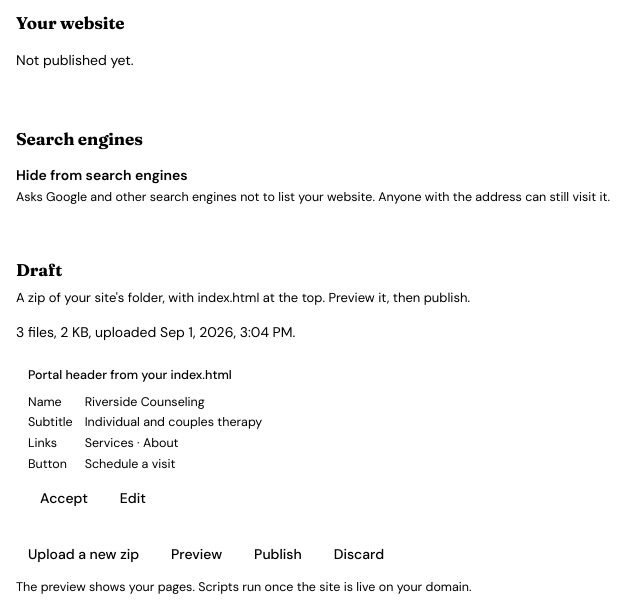
it: WebsitePage › shows the header suggested from index.html, and accepting writes it to the draft
Check: the element with test id "website-suggested-header" shows "Portal header from your index.html", box [28,367,232,383]
Check: the element with test id "website-suggested-header" shows "Riverside Counseling", box [85,394,205,410]
Click the button "Accept": (64, 498) [28,482,100,514]
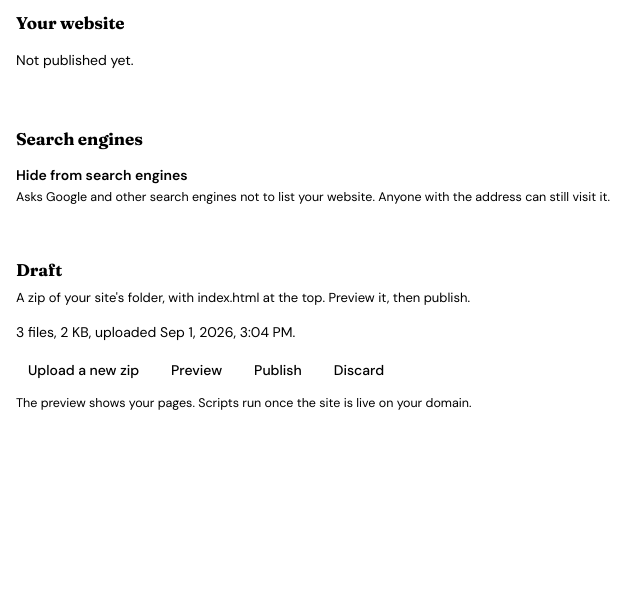
Check: the text "3 files, 2 KB, uploaded Sep 1, 2026, 3:04 PM." is shown, box [16,323,295,341]
Check: the element with test id "website-suggested-header" is gone
